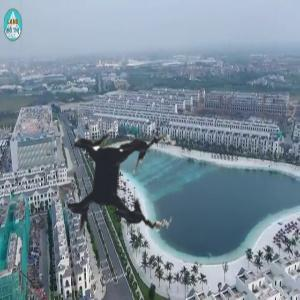drone: (11, 73, 224, 286)
